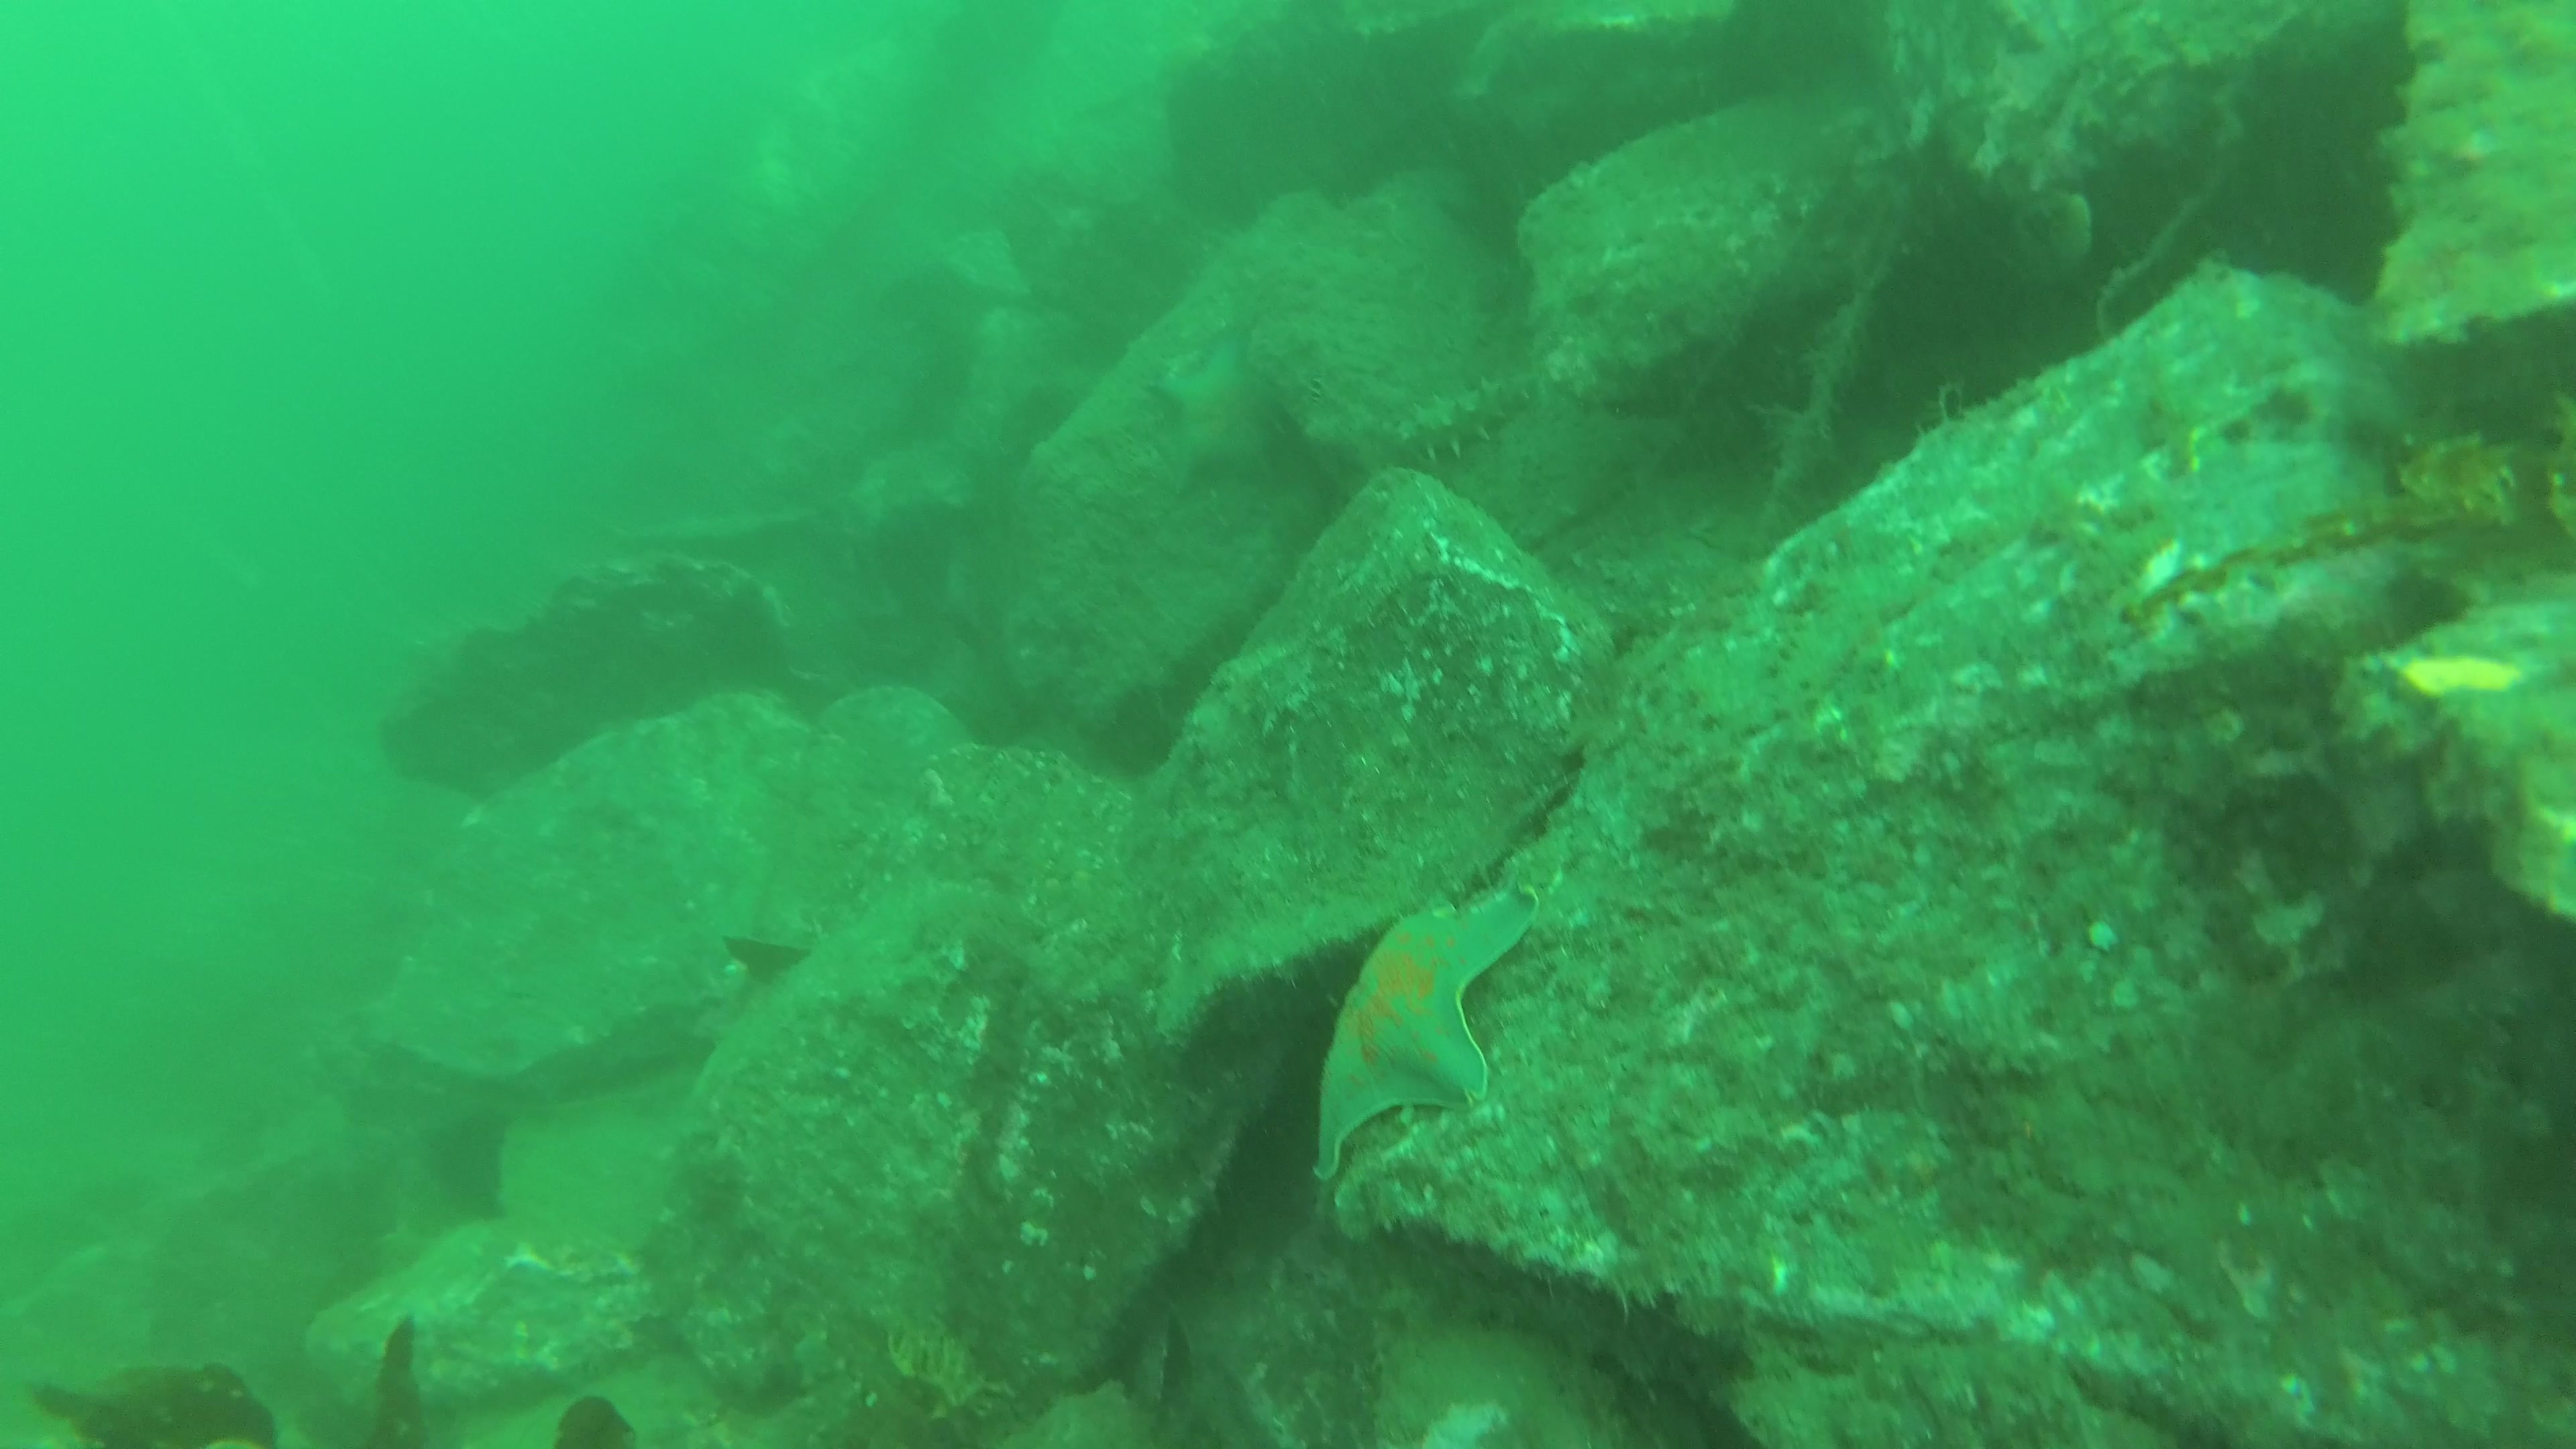holothurian: (1399, 375, 1560, 474)
starfish: (1316, 883, 1537, 1178), (1155, 352, 1288, 497)
